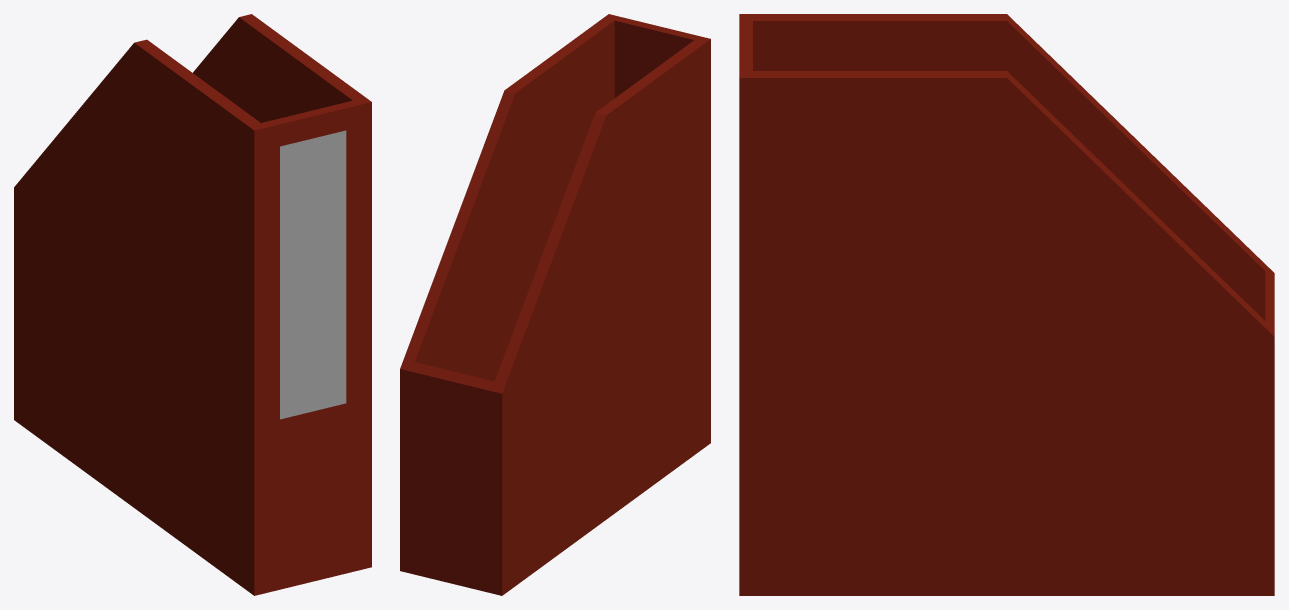
Rendered from FileHolderV1Red.fbx.
The picture shows the model from 3 angles, left to right: view 1: azimuth 30°, elevation 25°; view 2: azimuth 150°, elevation 25°; view 3: azimuth 270°, elevation 25°; orthographic projection. The views are drawn at different scales.
Parts seen in each view (by area): view 1: FileHolderV1Red; view 2: FileHolderV1Red; view 3: FileHolderV1Red.
Part boxes in pixels (<box>): FileHolderV1Red: <box>14,14,371,595</box>; FileHolderV1Red: <box>400,14,710,595</box>; FileHolderV1Red: <box>739,14,1274,595</box>.
Bounding box in the file's own units: 7.39 × 27.94 × 26.15.
